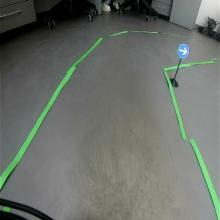right: (176, 42, 190, 59)
